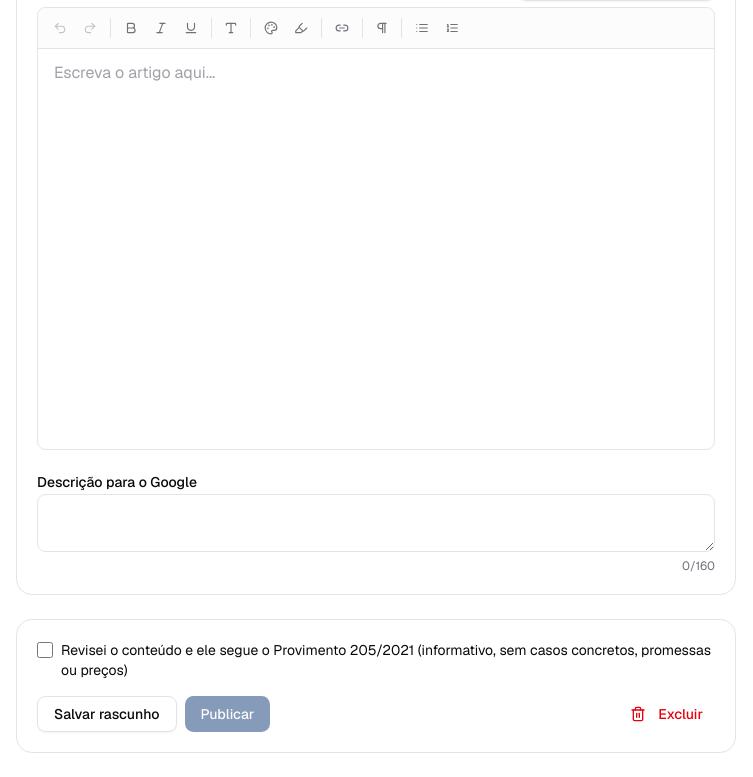
Test: ArticleEditor › shows the public URL preview and saves a draft
(page scrolled)
Click the button "Salvar rascunho" at (107, 714), box [37,696,176,732]
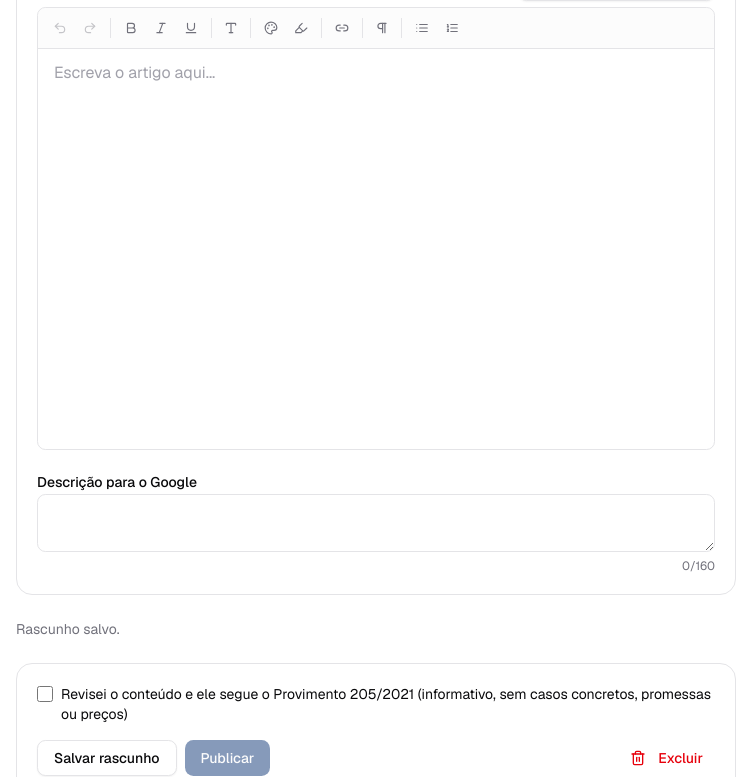
Now the text "Rascunho salvo." is shown, box [16,620,120,638]
